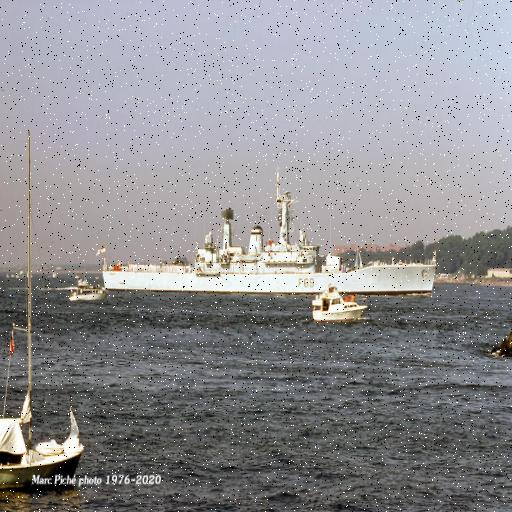Fragata: (98, 156, 438, 298)
